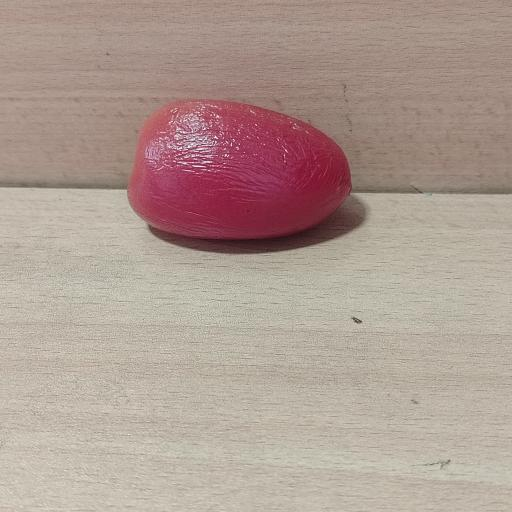spoiled: (128, 100, 351, 239)
